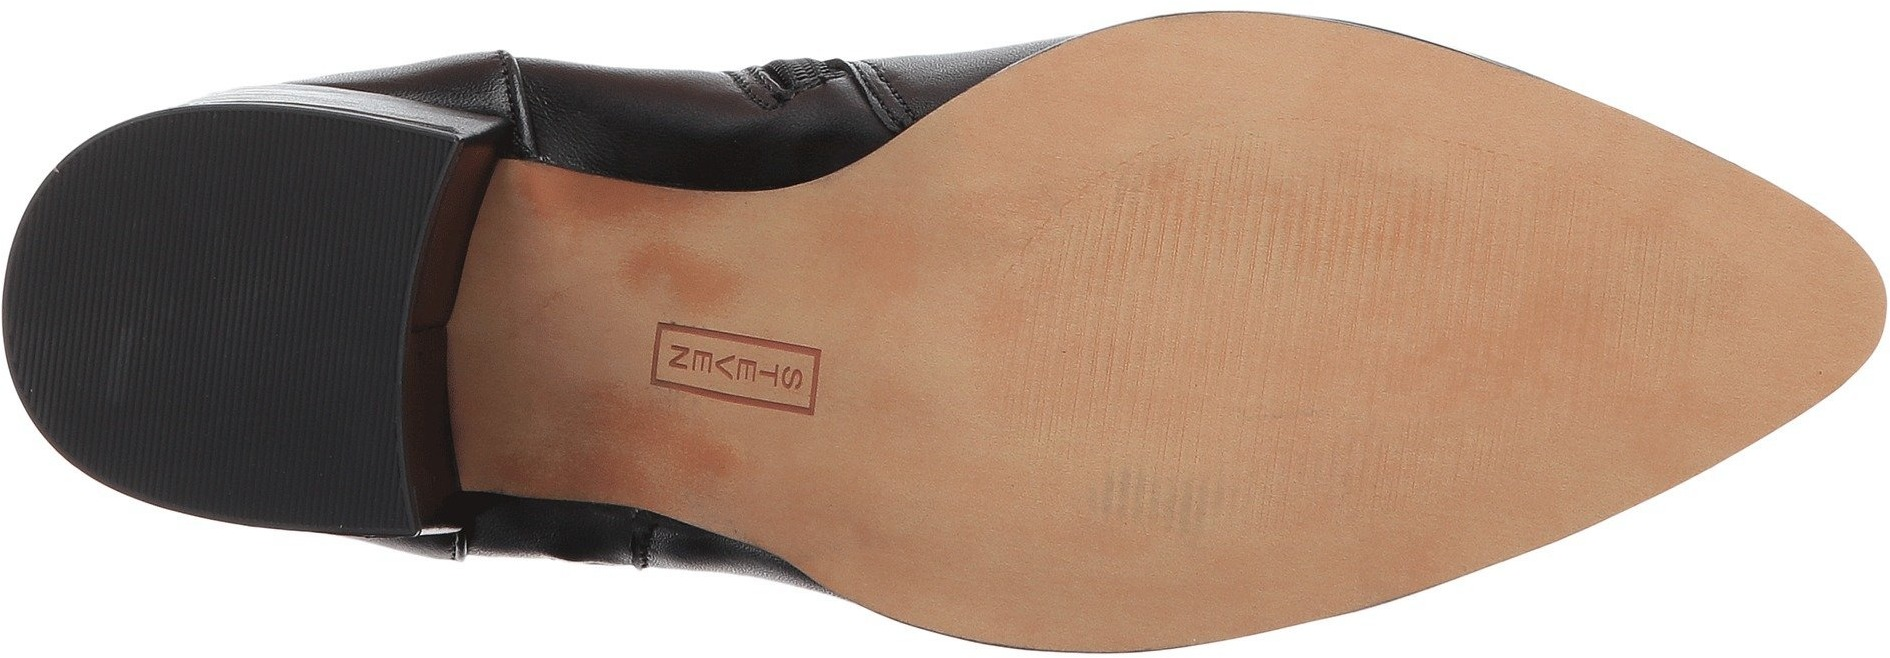line: (1125, 190, 1436, 456)
other: (10, 98, 463, 525)
